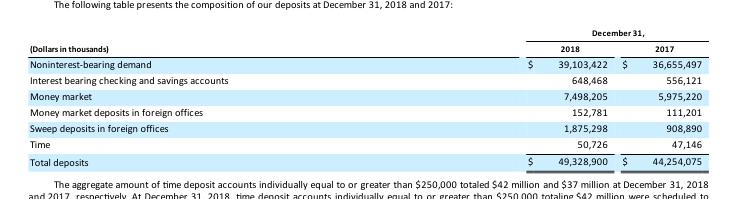table: (29, 28, 701, 167)
table column: (29, 28, 377, 167), (377, 28, 614, 167), (614, 28, 701, 167)
table column header: (29, 28, 701, 56)
table row: (29, 136, 701, 153), (29, 56, 701, 72), (29, 72, 701, 88), (29, 88, 701, 104), (29, 104, 701, 120), (29, 120, 701, 136), (29, 41, 701, 56), (29, 153, 701, 167), (29, 28, 701, 41)
table spanning cell: (29, 28, 377, 56), (377, 28, 701, 41)
